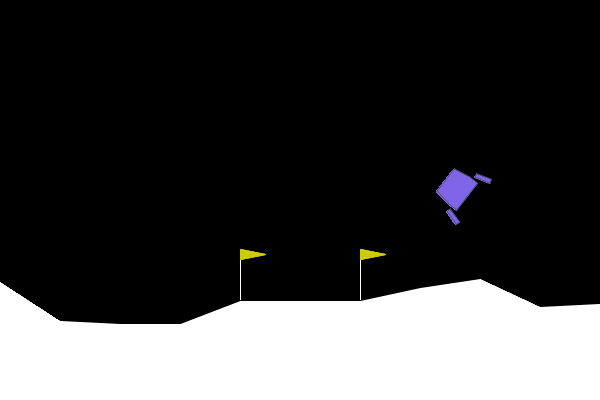lander: (425, 155, 494, 227)
